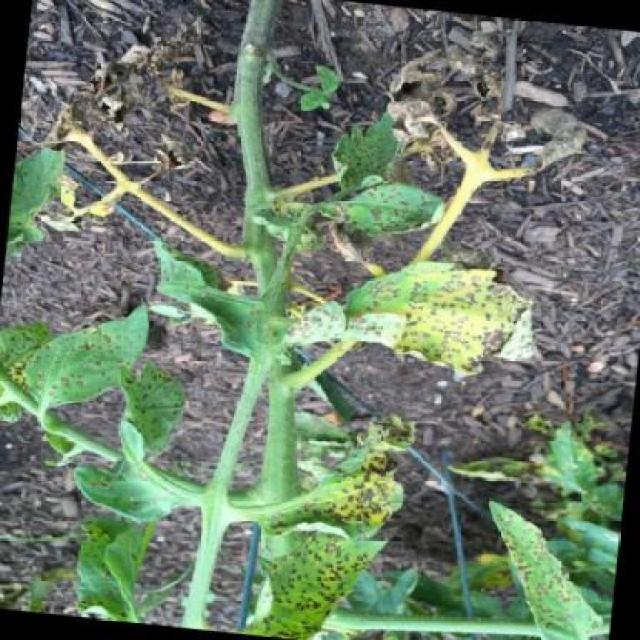Septoria leaf spot: (256, 238, 582, 384), (246, 399, 423, 546), (214, 519, 395, 639), (10, 286, 164, 420), (472, 500, 616, 638), (316, 170, 472, 248), (297, 99, 414, 199), (166, 237, 256, 361), (102, 358, 198, 469)
